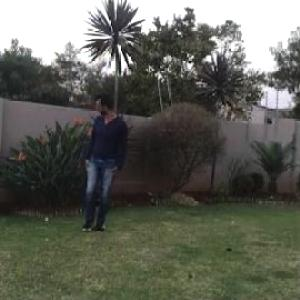follow: (77, 81, 129, 243)
